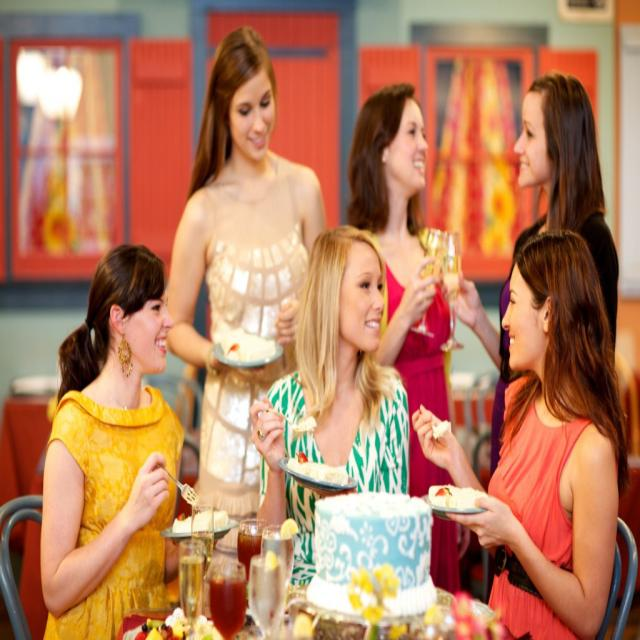body: (402, 218, 637, 639), (442, 70, 624, 607), (164, 20, 330, 557), (343, 81, 464, 604), (38, 242, 189, 640), (248, 224, 410, 586)
